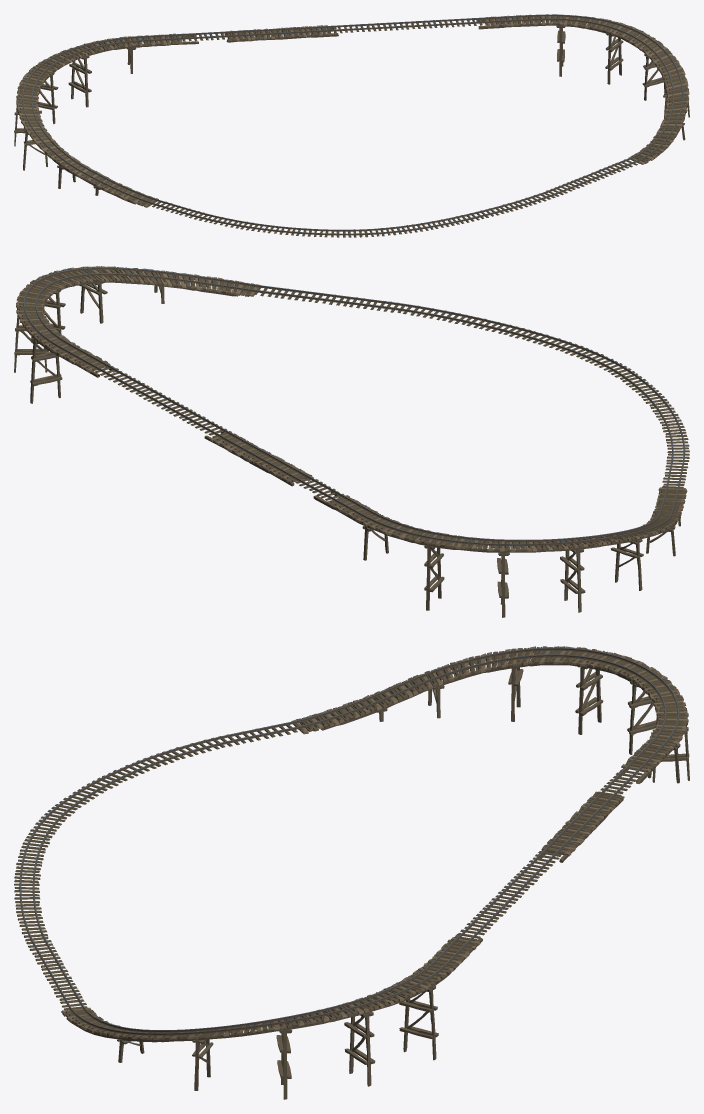
File: SM_Train_Tracks.fbx
The picture shows the model from 3 angles, top to bottom: view 1: azimuth 30°, elevation 25°; view 2: azimuth 150°, elevation 25°; view 3: azimuth 270°, elevation 25°; orthographic projection. The views are drawn at different scales.
Parts seen in each view (by area): view 1: Train_Tracks; view 2: Train_Tracks; view 3: Train_Tracks.
Part boxes in pixels (<box>): Train_Tracks: <box>14,14,689,237</box>; Train_Tracks: <box>14,266,689,617</box>; Train_Tracks: <box>14,646,689,1099</box>.
Bounding box in the file's own units: 28.77 × 2.8 × 20.99.
